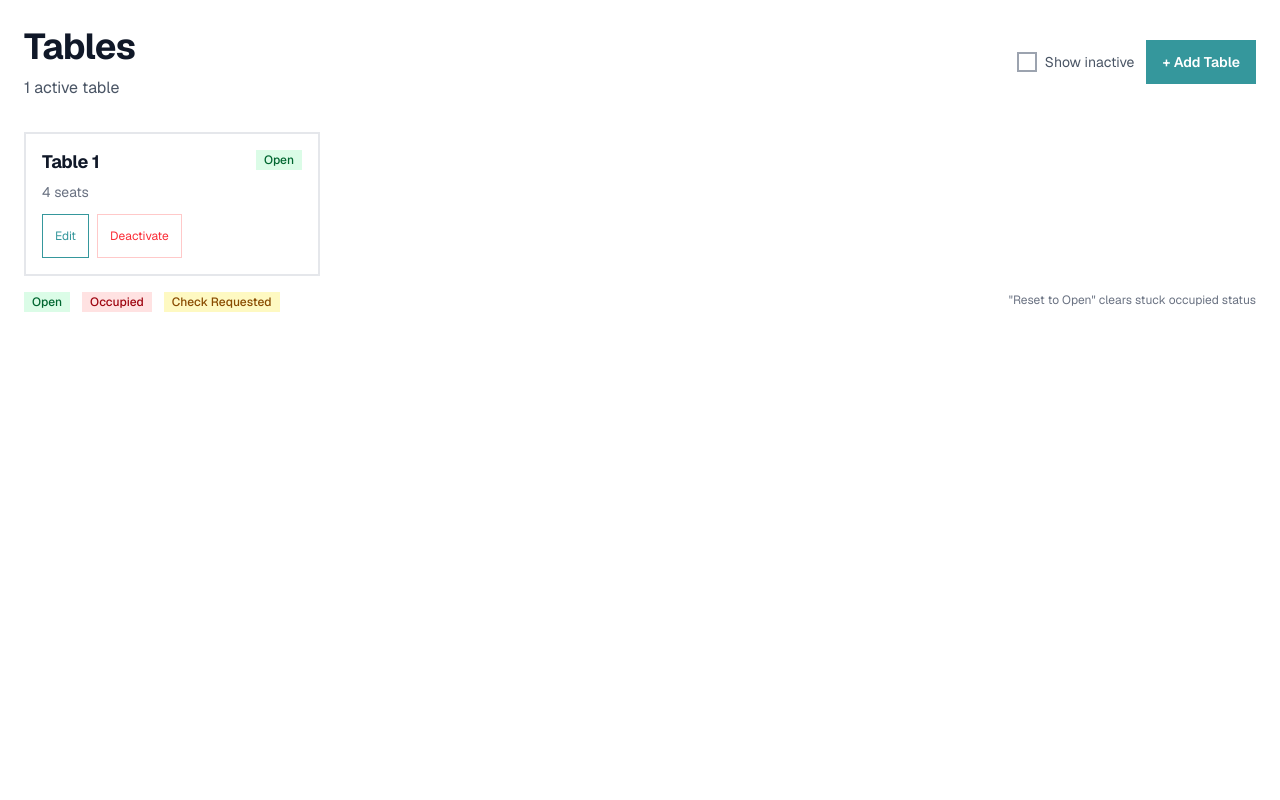
Tables Management Page › Edit Table › should open edit modal with prefilled data
The image size is (1280, 800).
Expected: the heading "Table 1" is shown, [42, 150, 99, 174]
Click the button "Edit" at [66, 236], box [42, 214, 89, 258]
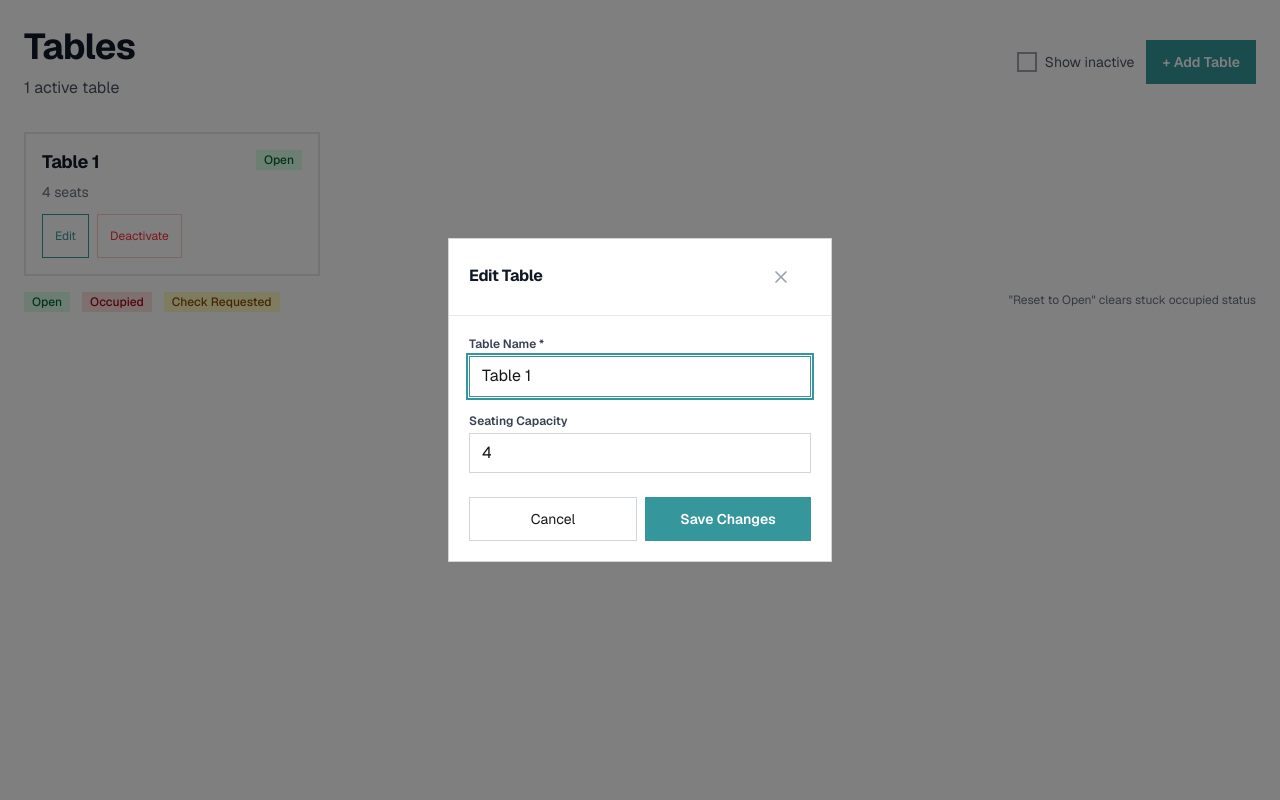
Expected: the heading "Edit Table" is shown, [469, 266, 543, 287]
Expected: the field showing "Table 1" is shown, [469, 356, 811, 396]
